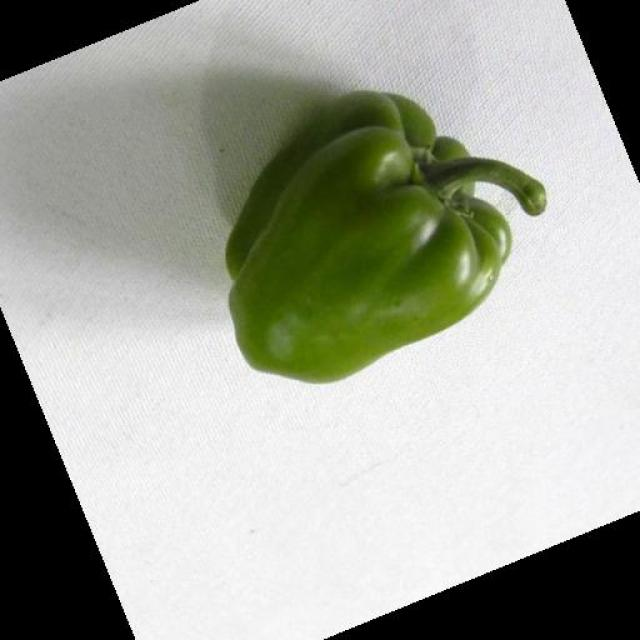Fresh_Capsicum: (207, 76, 543, 381)
